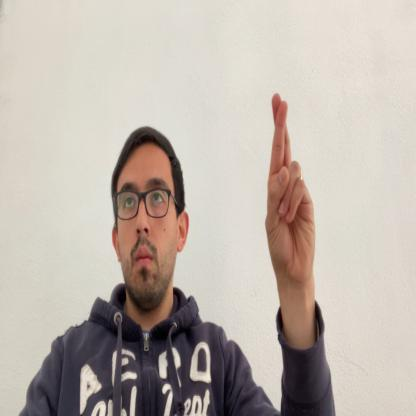R: (265, 92, 316, 282)
